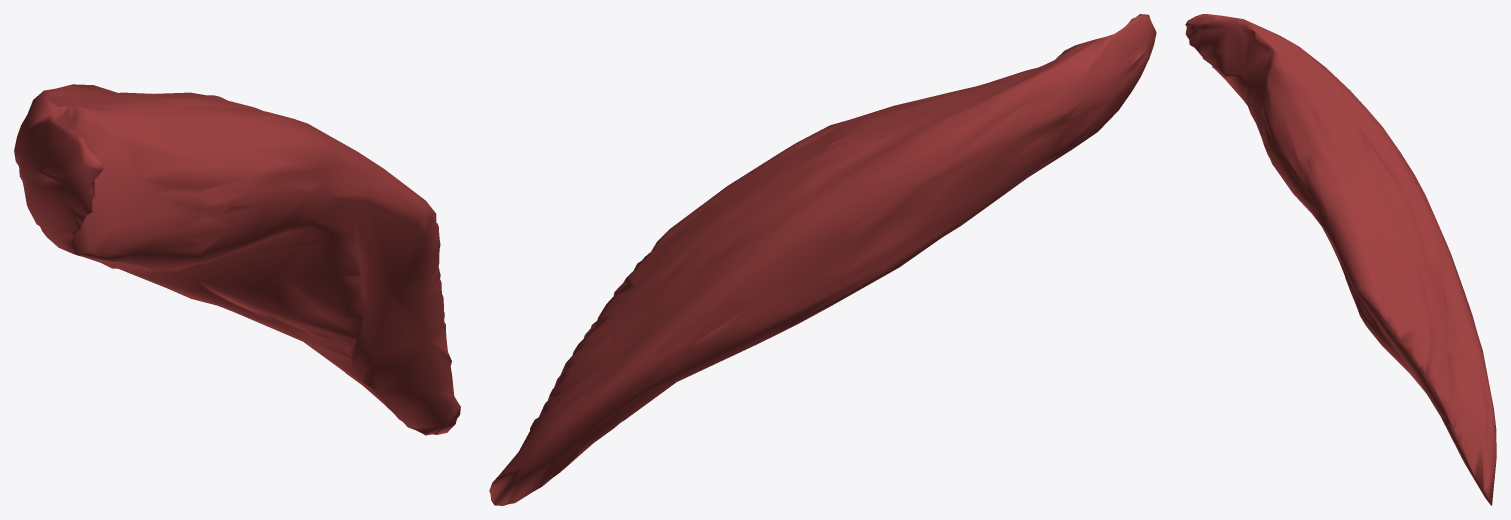
File: teres-minor-muscle-r.glb
3 views of the same model, side by side, from view 1: azimuth 30°, elevation 25°; view 2: azimuth 150°, elevation 25°; view 3: azimuth 270°, elevation 25° (orthographic). The views are drawn at different scales.
Parts seen in each view (by area): view 1: Teres minor muscle.r; view 2: Teres minor muscle.r; view 3: Teres minor muscle.r.
Boxes of the visible parts, x1=… form: Teres minor muscle.r: x1=14, y1=84, x2=460, y2=435; Teres minor muscle.r: x1=489, y1=14, x2=1156, y2=505; Teres minor muscle.r: x1=1185, y1=14, x2=1496, y2=505.
Bounding box in the file's own units: 0.0961 × 0.0895 × 0.0759.
